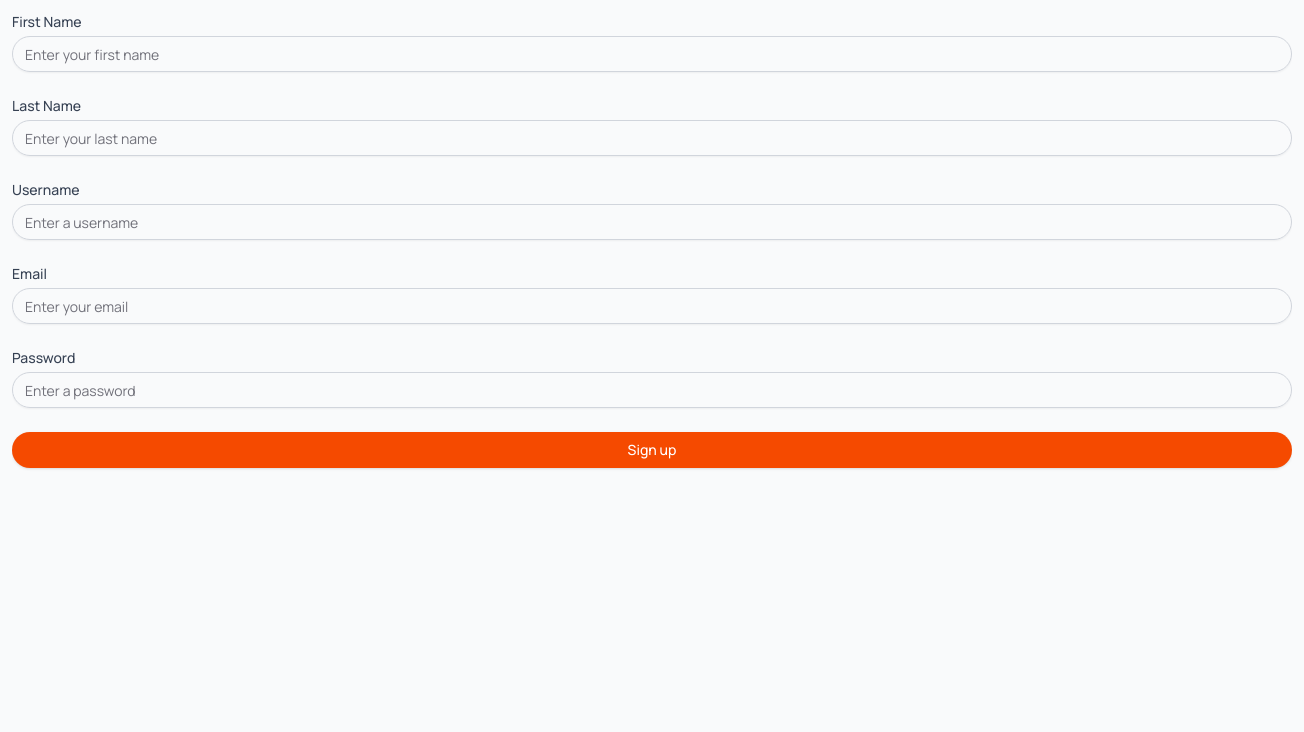
Test: SignupForm Component › should display generic error message when API request fails
Type "John" into the field with placeholder "Enter your first name". click: (652, 54)
box: [12, 36, 1292, 72]
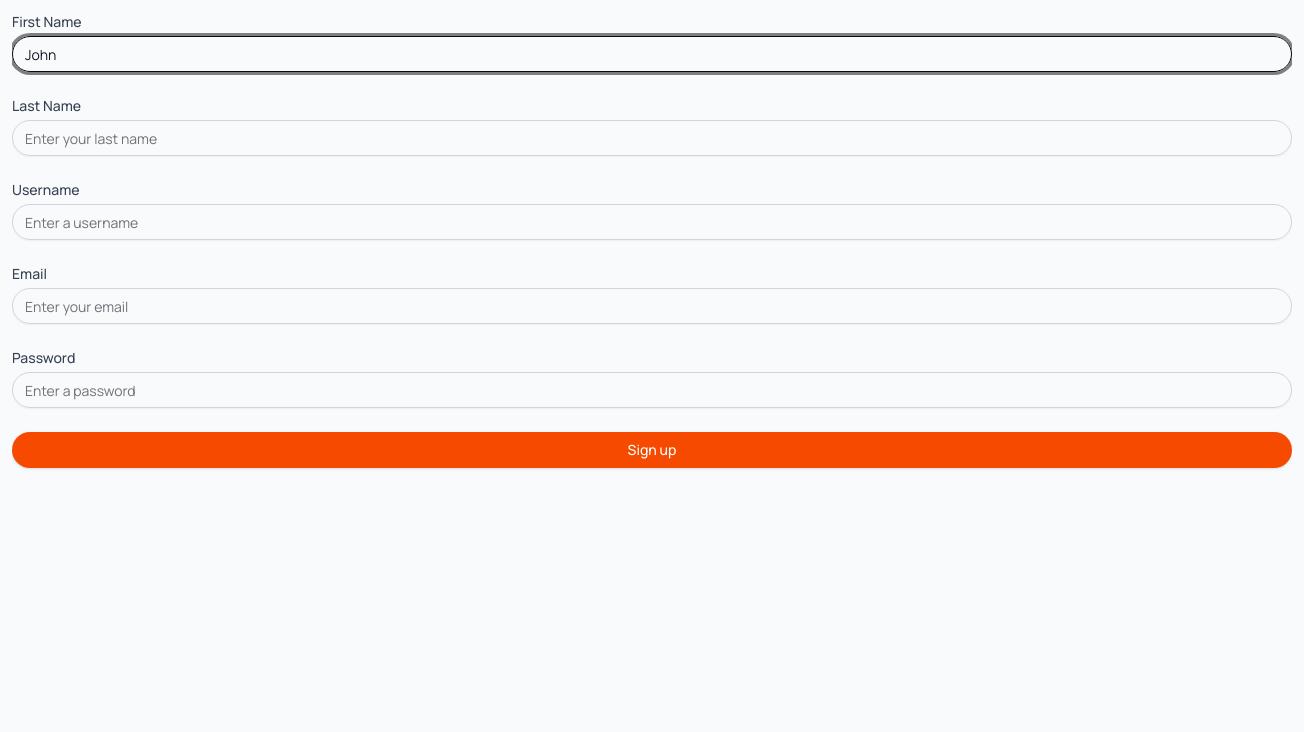
Type "Doe" into the field with placeholder "Enter your last name". click: (652, 138)
box: [12, 120, 1292, 156]
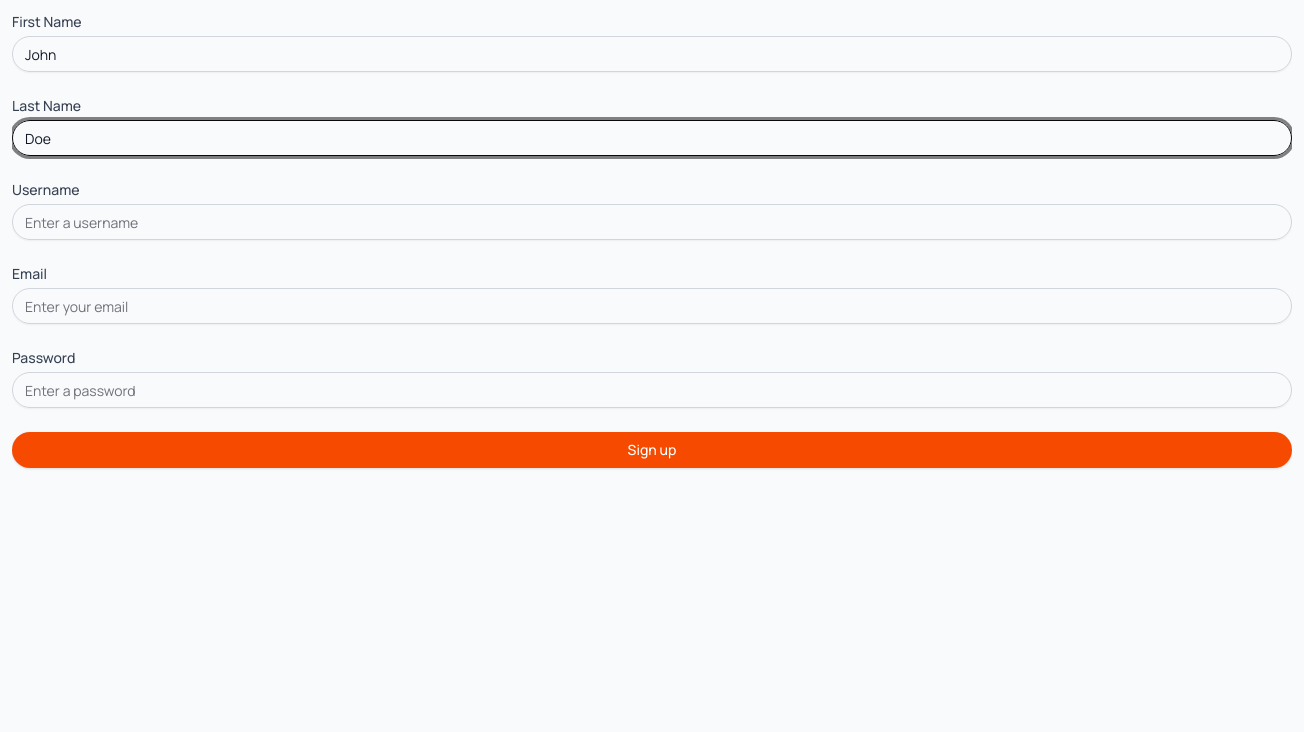
Type "johndoe" into the field with placeholder "Enter a username". click: (652, 222)
box: [12, 204, 1292, 240]
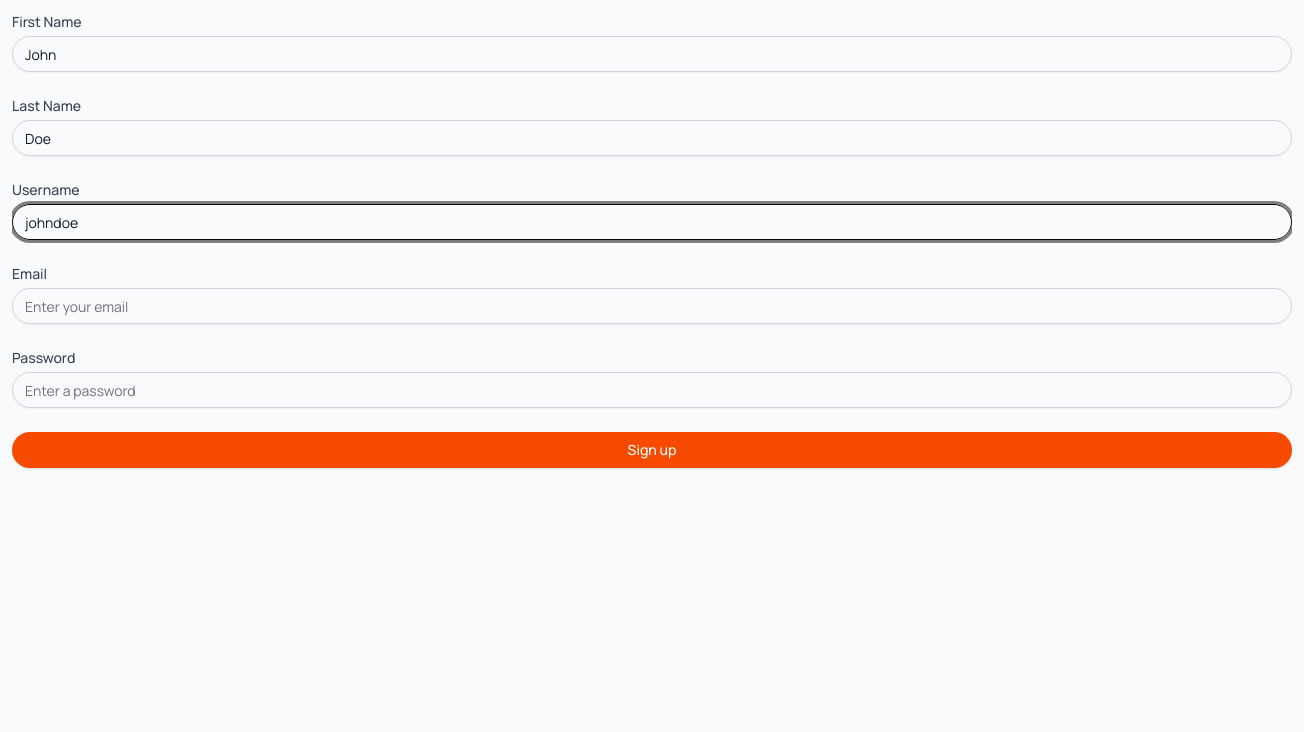
Type "john.doe@example.com" into the field with placeholder "Enter your email". click: (652, 306)
box: [12, 288, 1292, 324]
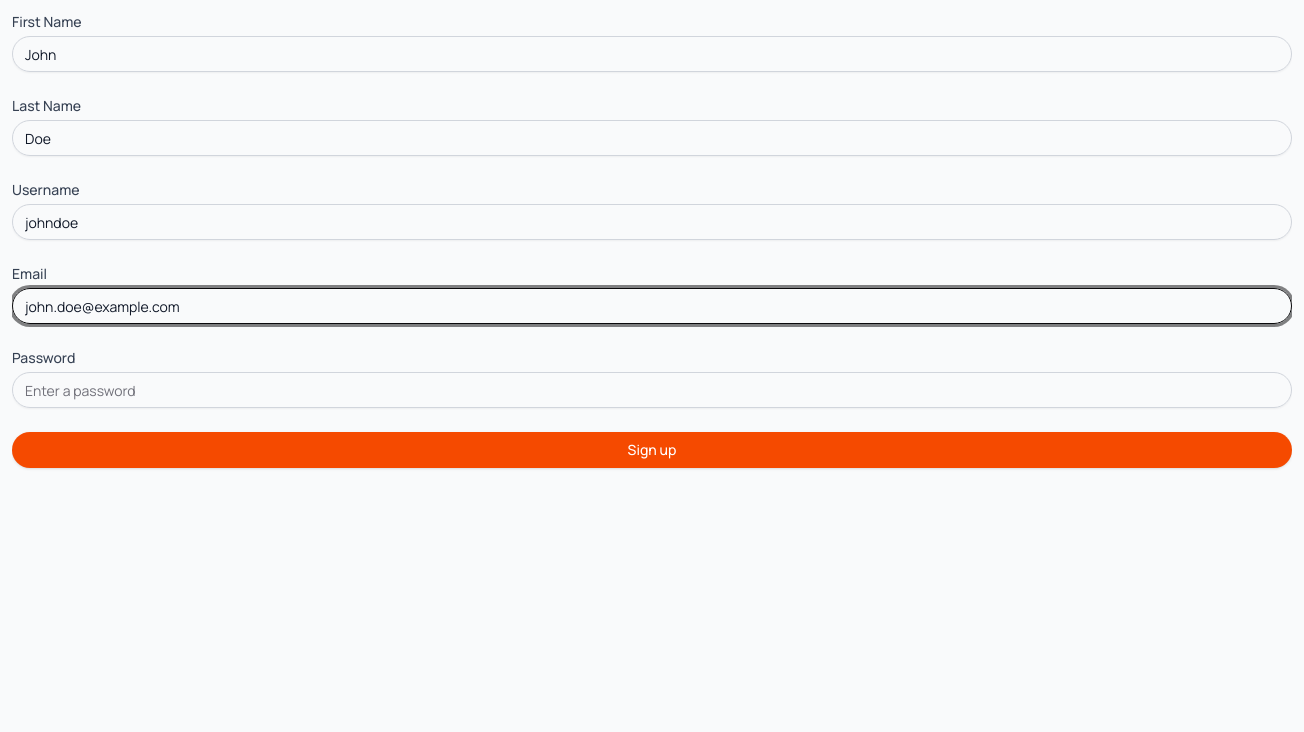
Type "SecurePassword123" into the password field with placeholder "Enter a password". click: (652, 390)
box: [12, 372, 1292, 408]
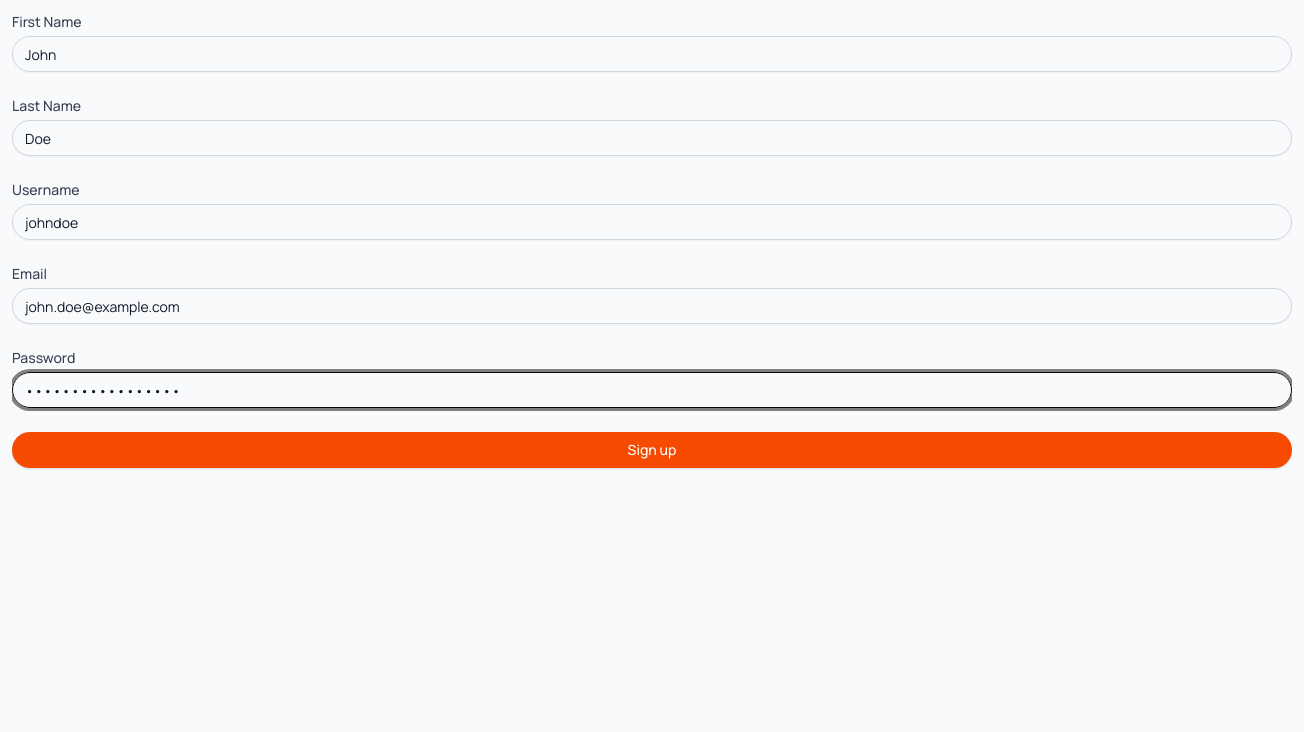
Click the button "Sign up". click: (652, 450)
box: [12, 432, 1292, 468]
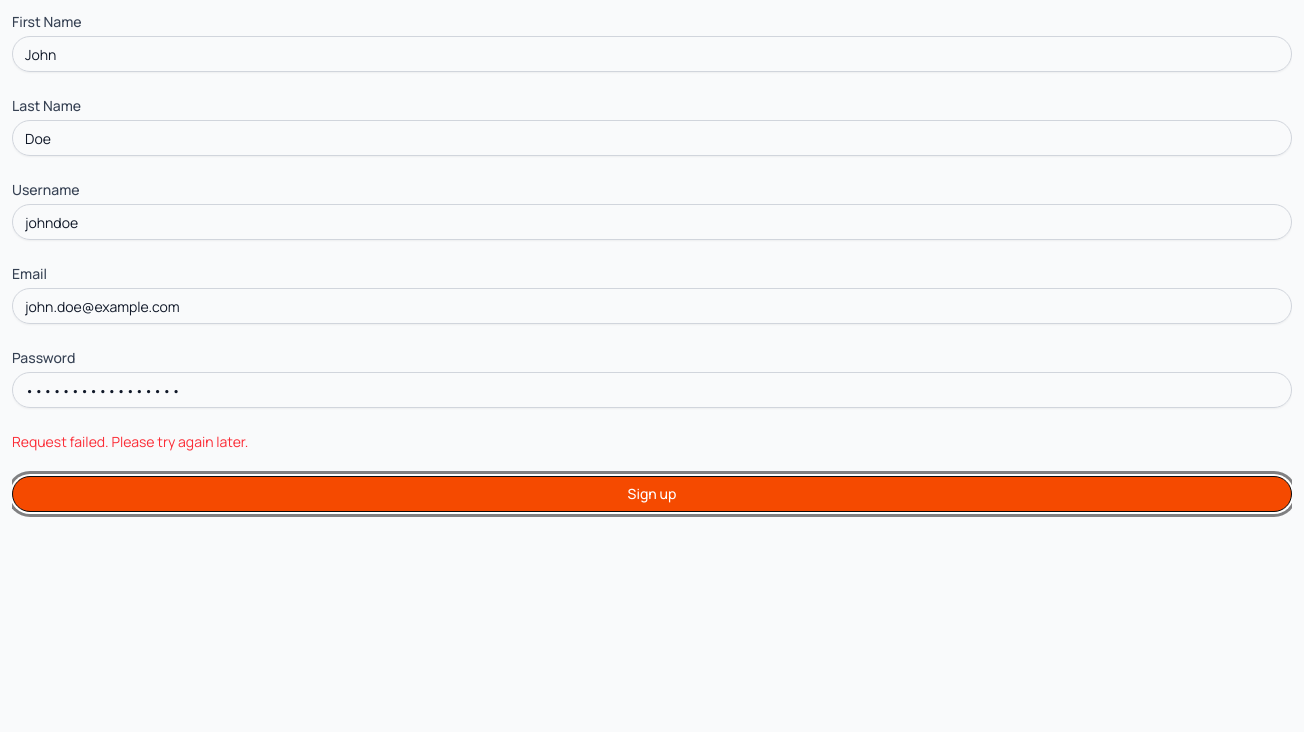
Expected: the text "Request failed. Please try again later." is shown, [12, 432, 248, 451]
